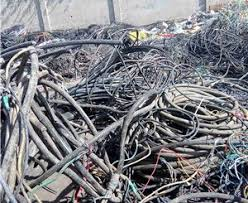more_tube: (116, 79, 235, 203), (11, 38, 98, 166)
